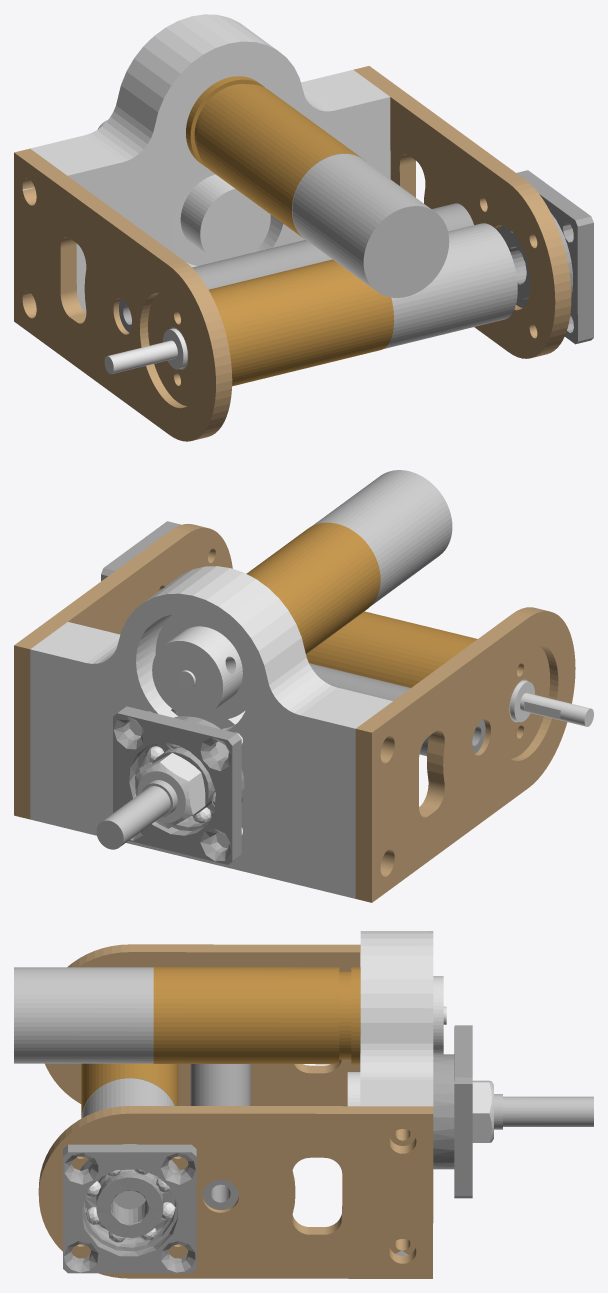
Rendered from wrist.dae.
3 renders of one model, top to bottom at view 1: azimuth 30°, elevation 25°; view 2: azimuth 150°, elevation 25°; view 3: azimuth 270°, elevation 25°, orthographic. The views are drawn at different scales.
Parts seen in each view (by area): view 1: Wrist, Wrist_012, Wrist_002, Wrist_016, Wrist_001, Wrist_017, Wrist_013, Wrist_014, Wrist_005, Wrist_003, Wrist_004; view 2: Wrist_012, Wrist, Wrist_015, Wrist_001, Wrist_016, Wrist_008, Wrist_002, Wrist_007, Wrist_006, Wrist_005, Wrist_003, Wrist_004 (+1 smaller); view 3: Wrist, Wrist_001, Wrist_014, Wrist_016, Wrist_012, Wrist_015, Wrist_005, Wrist_007, Wrist_017, Wrist_002, Wrist_006, Wrist_010 (+2 smaller).
Boxes of the visible parts, x1,y1,x2,y2 form: Wrist: (14,66,571,441); Wrist_012: (22,14,390,312); Wrist_002: (209,259,393,386); Wrist_016: (292,153,449,297); Wrist_001: (186,76,361,237); Wrist_017: (384,223,517,348); Wrist_013: (172,170,270,265); Wrist_014: (498,170,593,344); Wrist_005: (119,203,473,332); Wrist_003: (104,340,177,374); Wrist_004: (163,327,188,369); Wrist_012: (30,566,392,898); Wrist: (14,524,575,902); Wrist_015: (113,706,244,864); Wrist_001: (246,522,380,653); Wrist_016: (312,470,452,605); Wrist_008: (152,614,249,719); Wrist_002: (306,611,477,687); Wrist_007: (96,727,222,849); Wrist_006: (135,753,205,828); Wrist_005: (309,663,485,756); Wrist_003: (521,693,593,726); Wrist_004: (509,679,560,722); Wrist: (38,944,433,1278); Wrist_001: (153,967,360,1064); Wrist_014: (63,1144,196,1273); Wrist_016: (14,967,153,1063); Wrist_012: (360,931,433,1255); Wrist_015: (433,1025,472,1198); Wrist_005: (190,1064,250,1209); Wrist_007: (494,1094,593,1129); Wrist_017: (81,1078,174,1209); Wrist_002: (81,1063,178,1117); Wrist_006: (472,1080,493,1142); Wrist_010: (85,1169,175,1242).
Bounding box in the file's own units: 837 × 956 × 465.
